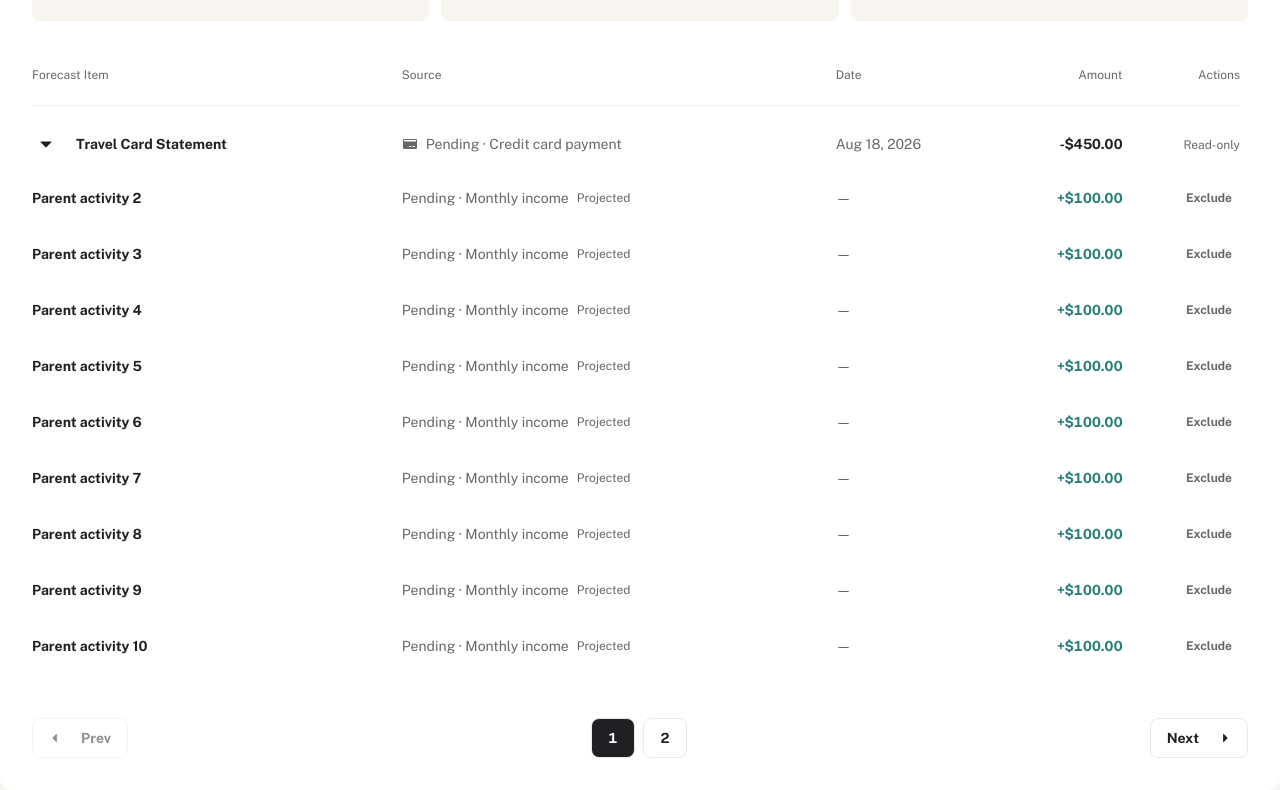
ForecastActivityReport › expands statement details while paginating by parent activities
Earlier steps of the test are not shown.
(page scrolled)
Click the link named "Go to page 2". click: (665, 738)
box: x1=643 y1=718 x2=687 y2=758
(page scrolled)
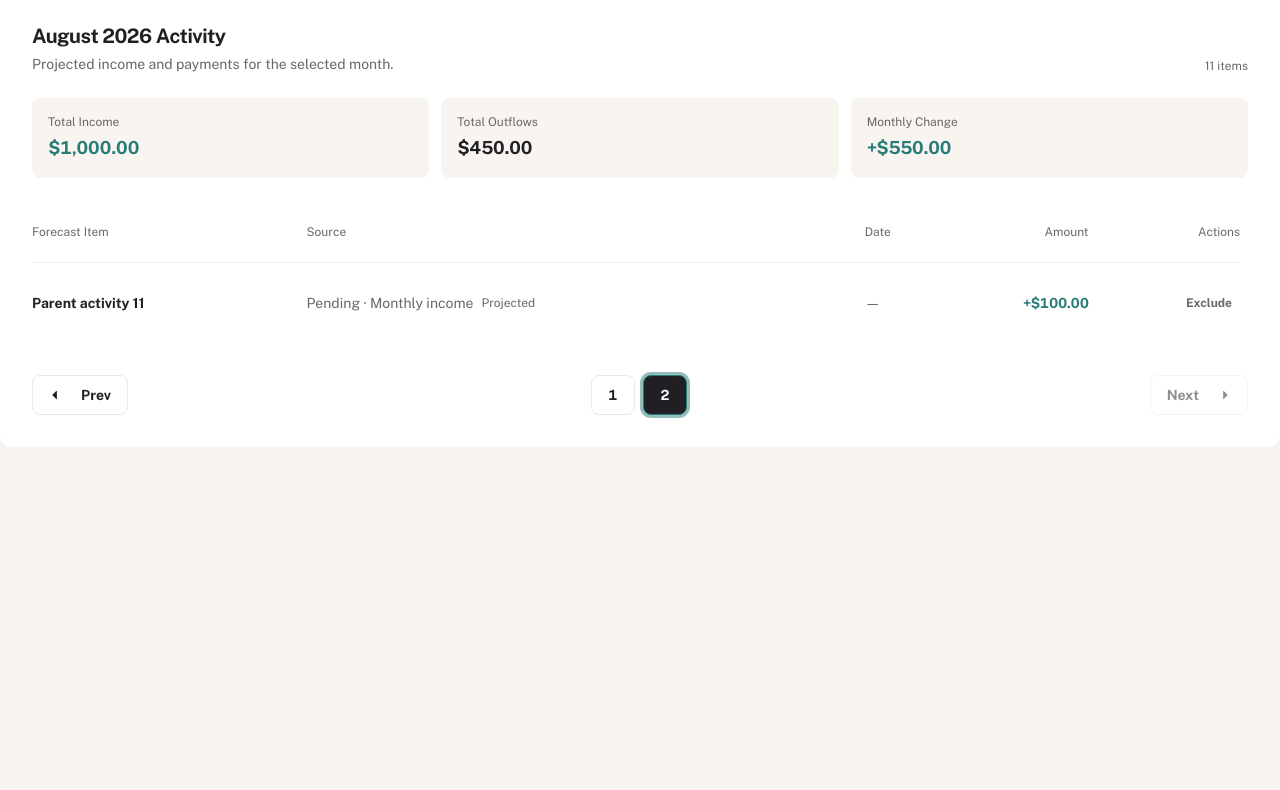
Check: the text "Travel Card Statement" is gone
